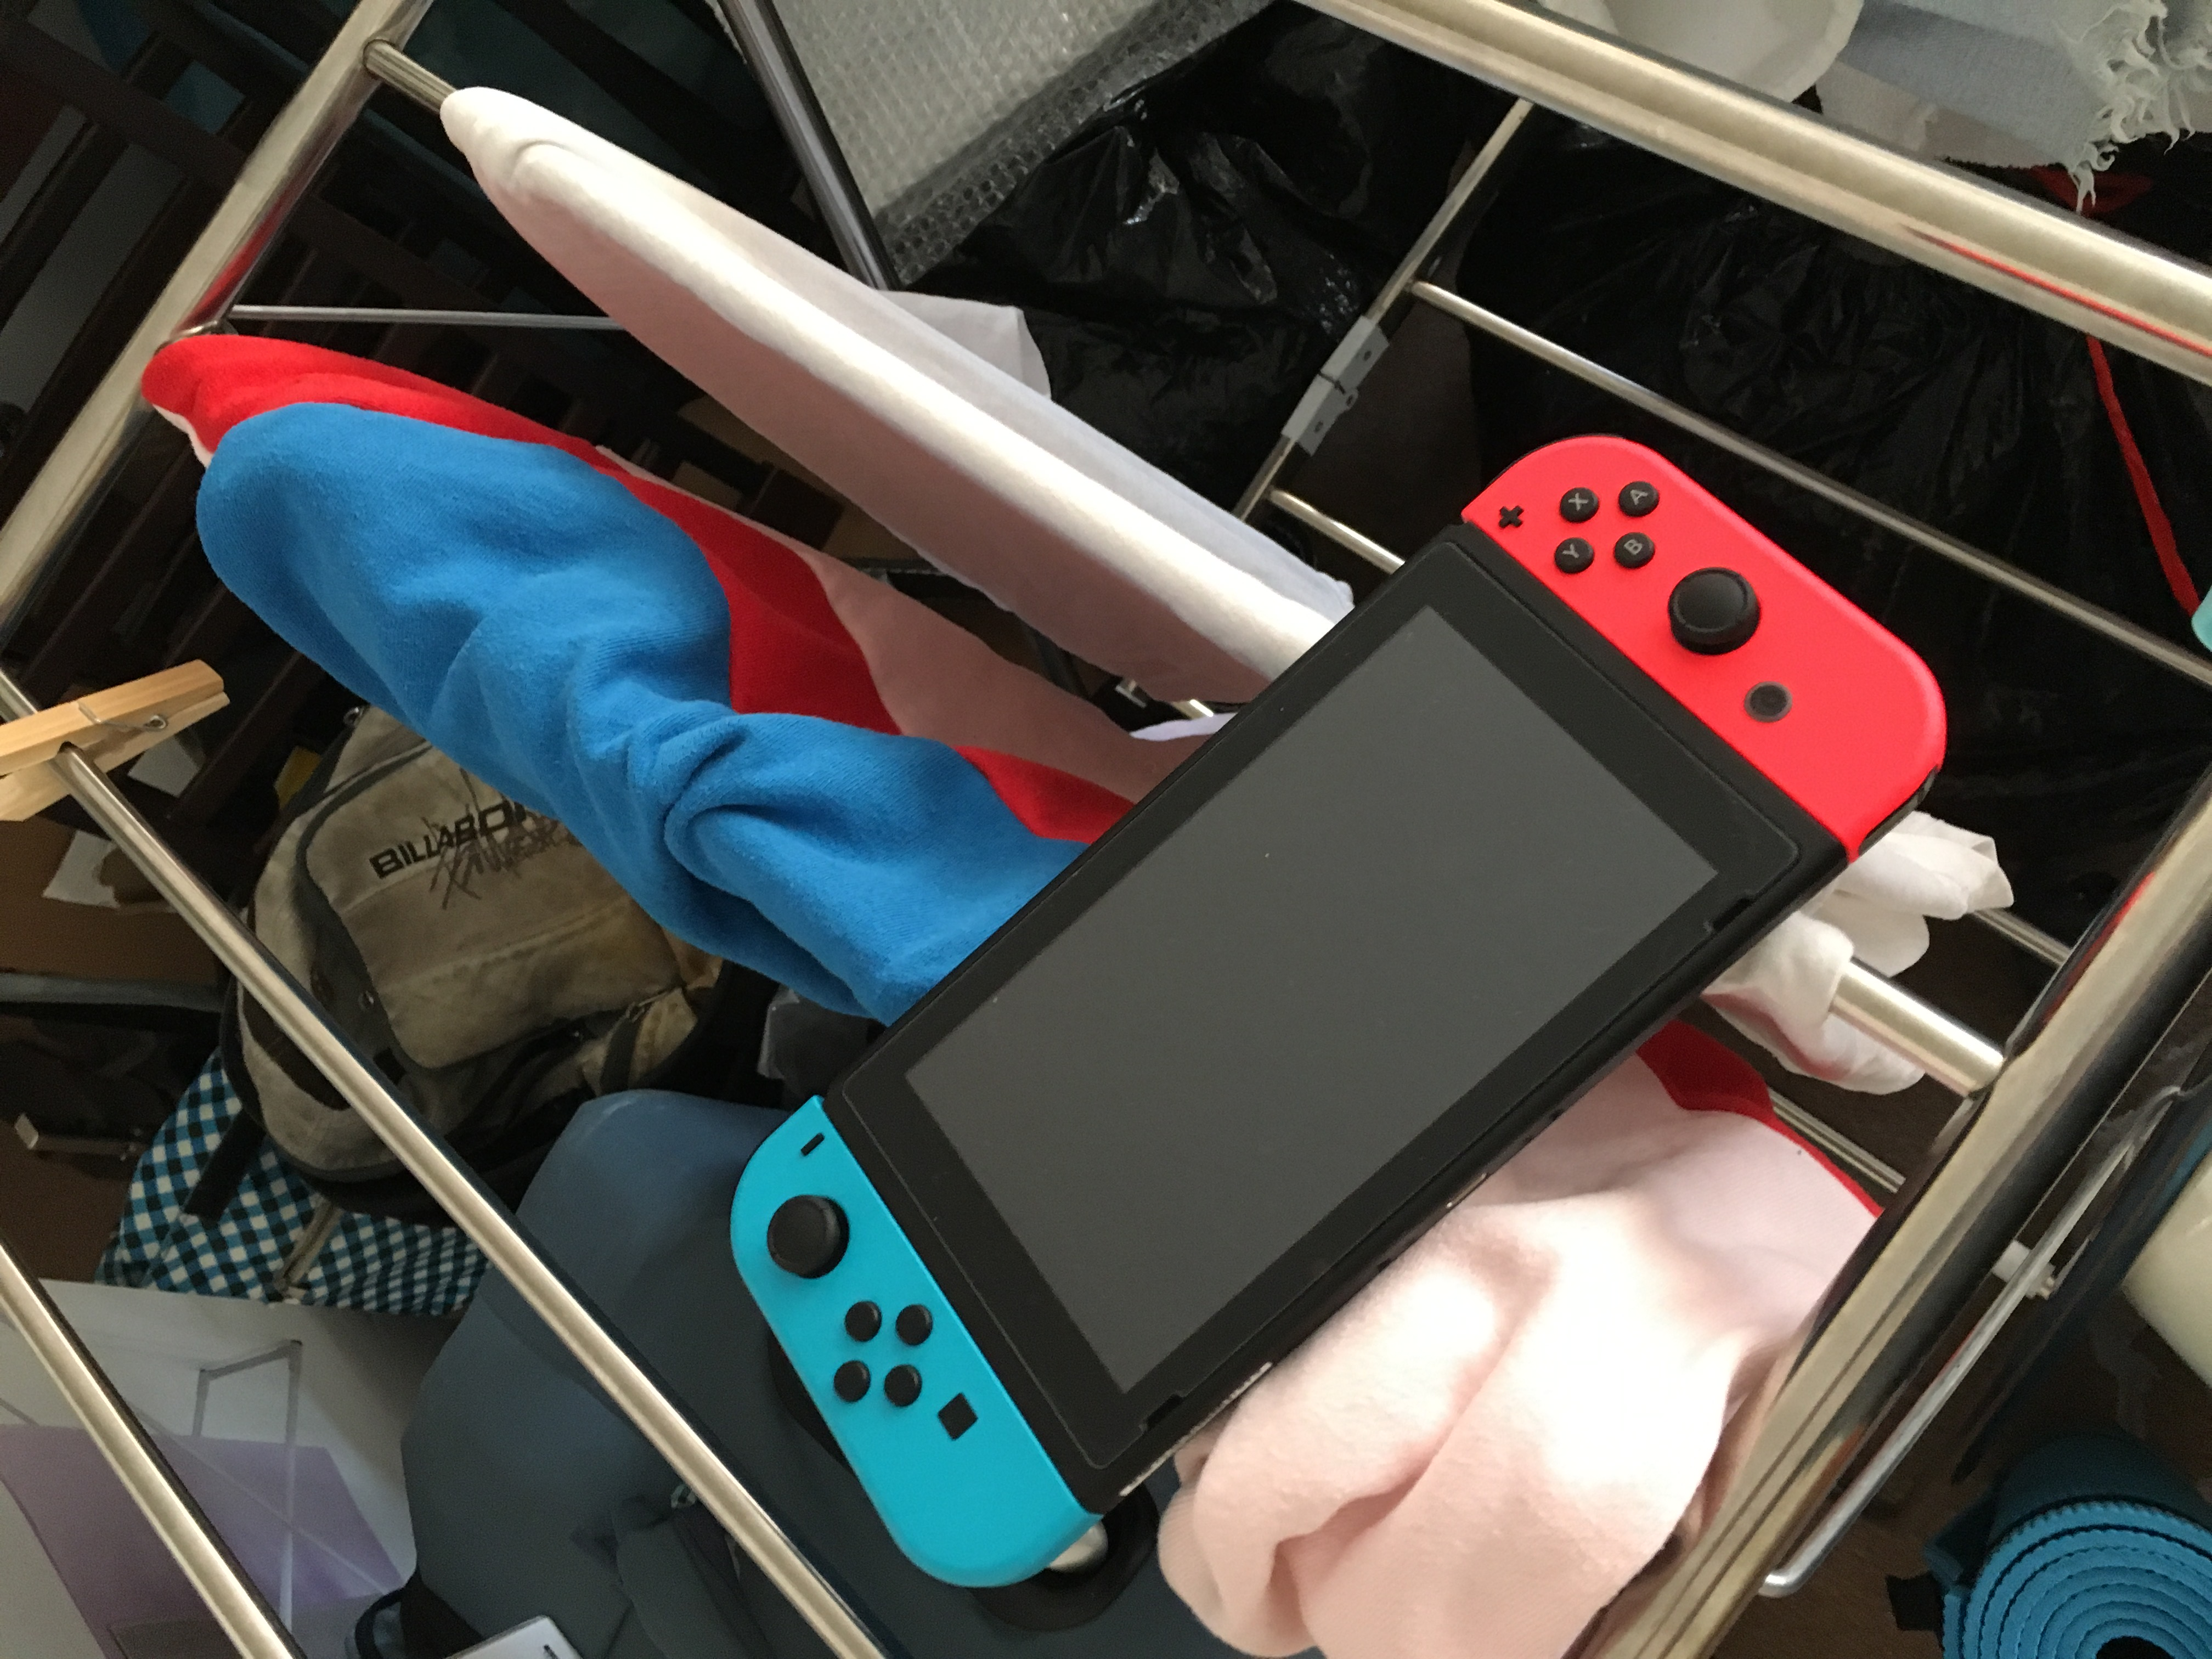NintendoSwitch: (690, 423, 1979, 1617)
